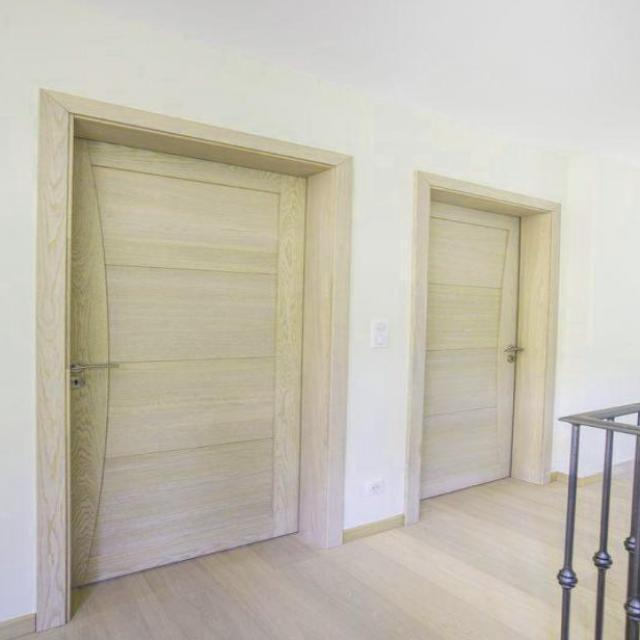door: (58, 117, 316, 584), (418, 200, 520, 500)
